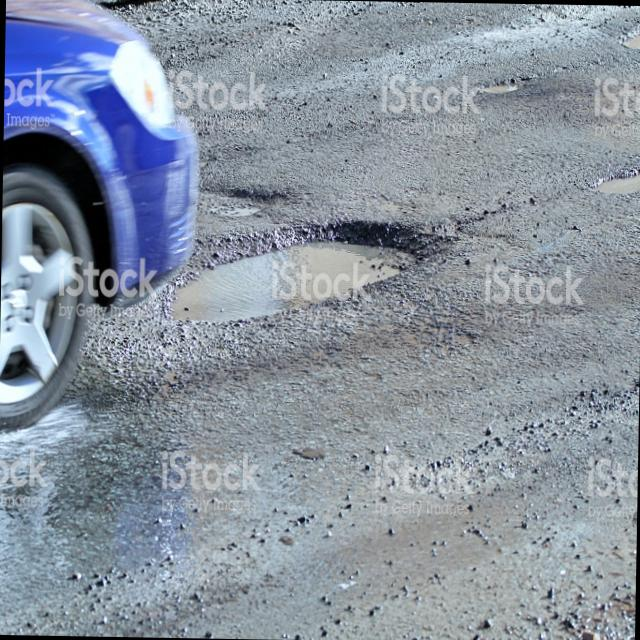Potholes: (137, 226, 457, 332), (468, 62, 542, 118), (588, 153, 640, 206), (599, 13, 640, 74)
